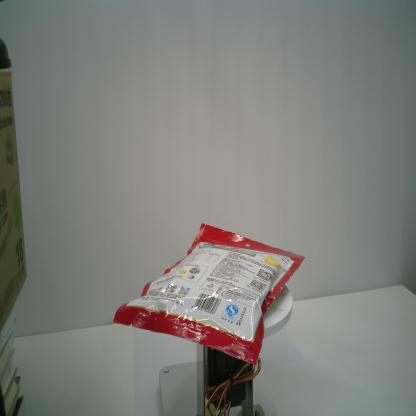Instant Drink: (112, 223, 305, 365)
